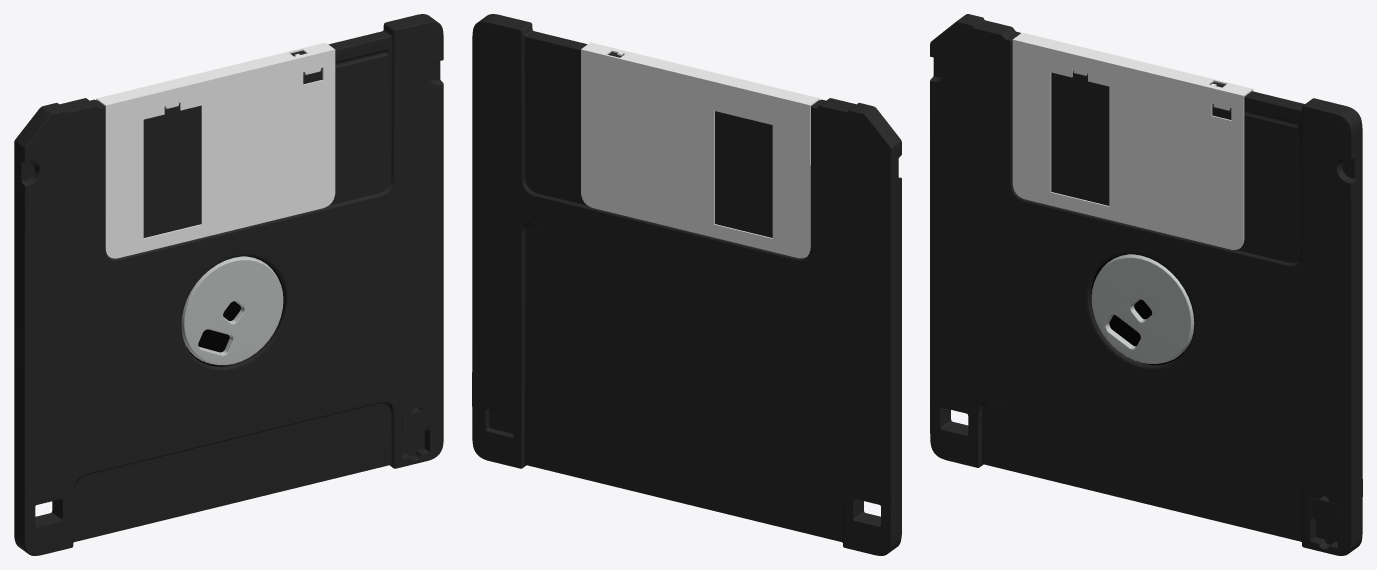
The picture shows the model from 3 angles, left to right: view 1: azimuth 30°, elevation 25°; view 2: azimuth 150°, elevation 25°; view 3: azimuth 330°, elevation 25°; orthographic projection.
Visible parts, largest first — view 1: floppy_disk_base_realistic_lod0; view 2: floppy_disk_base_realistic_lod0; view 3: floppy_disk_base_realistic_lod0.
Boxes of the visible parts, <box> form: floppy_disk_base_realistic_lod0: <box>14,14,443,555</box>; floppy_disk_base_realistic_lod0: <box>472,14,901,555</box>; floppy_disk_base_realistic_lod0: <box>930,14,1362,555</box>.
Size of the model in its own units: 0.1532 by 0.1532 by 0.00689.
Materials: 1 (1 with a texture image).
